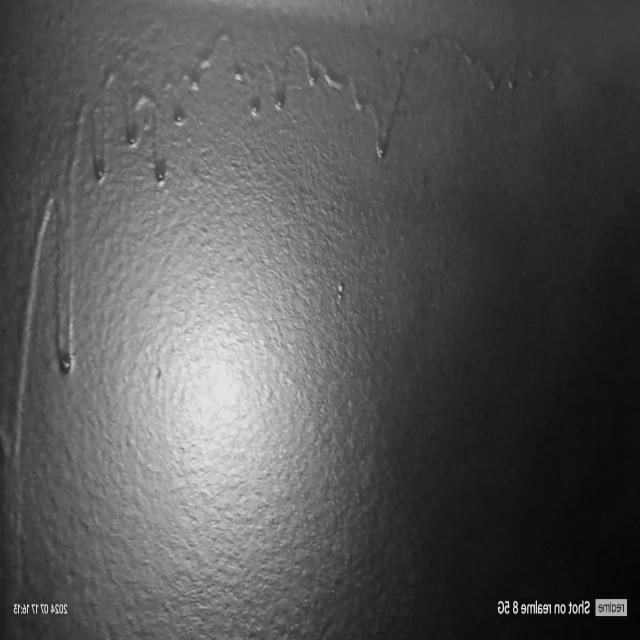paint drips: (84, 33, 560, 193), (0, 79, 87, 640)
